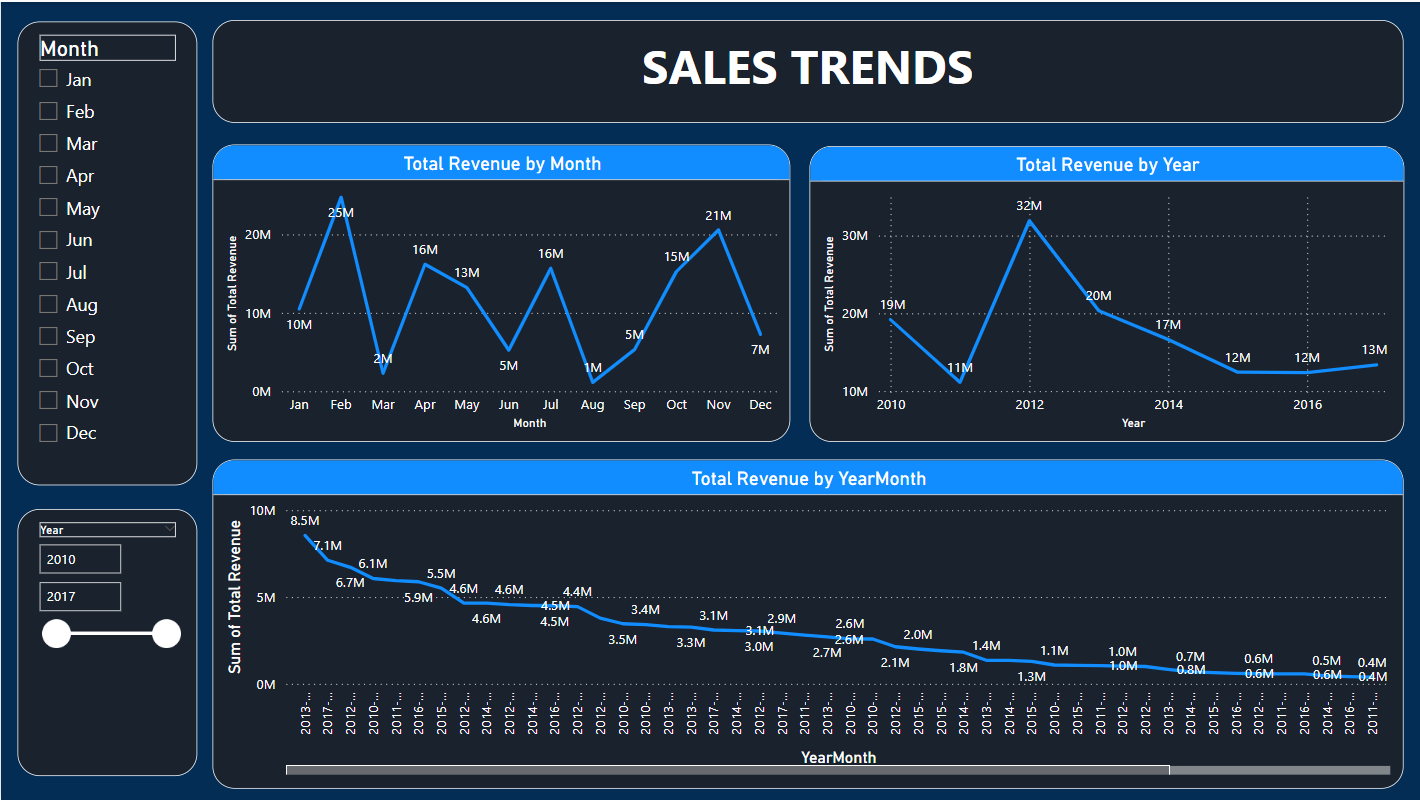

This screenshot's page, from the dashboard's own definition file:
{"tool":"powerbi","page":{"name":"Sales trends","canvas":[1280,720],"ordinal":1},"visuals":[{"type":"lineChart","title":"Total Revenue by Month","fields":{"Category":["Amazon Sales data.Month"],"Y":["Sum(Amazon Sales data.Total Revenue)"]},"box":[190.8,128.7,520.9,268],"z":0},{"type":"lineChart","title":"Total Revenue by Year","fields":{"Category":["Amazon Sales data.Year"],"Y":["Sum(Amazon Sales data.Total Revenue)"]},"box":[728.3,130.2,536,266.5],"z":1000},{"type":"lineChart","title":"Total Revenue by YearMonth","fields":{"Category":["Amazon Sales data.YearMonth"],"Y":["Sum(Amazon Sales data.Total Revenue)"]},"box":[190.8,411.9,1073.6,296.8],"z":2000},{"type":"slicer","title":"Month","fields":{"Values":["Amazon Sales data.Month"]},"box":[15.1,18.2,162,417.9],"z":3000},{"type":"slicer","fields":{"Values":["Amazon Sales data.Year"]},"box":[15.1,457.3,162,240.8],"z":4000},{"type":"textbox","box":[190.8,16.7,1073.6,92.4],"z":5000}]}

Visuals, with their boxes in screenshot pixels (x1, y1, x2, y2), scaled from the page's 1280x720 canvas onto the 1420x800 screenshot:
"Total Revenue by Month" lineChart: <bbox>212, 143, 790, 441</bbox>
"Total Revenue by Year" lineChart: <bbox>808, 145, 1403, 441</bbox>
"Total Revenue by YearMonth" lineChart: <bbox>212, 458, 1403, 787</bbox>
"Month" slicer: <bbox>17, 20, 196, 485</bbox>
slicer - Amazon Sales data.Year: <bbox>17, 508, 196, 776</bbox>
textbox: <bbox>212, 19, 1403, 121</bbox>
